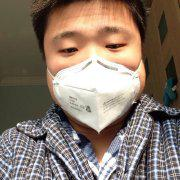OK: (48, 23, 146, 132)
